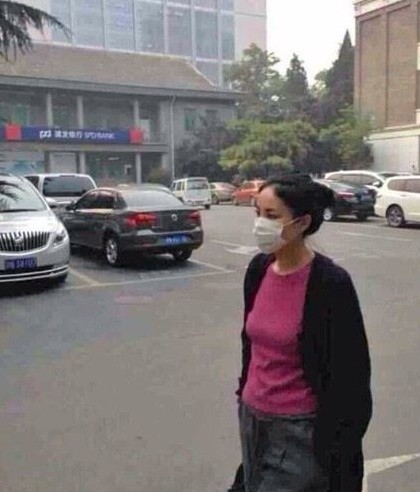face_mask: (252, 186, 293, 252)
